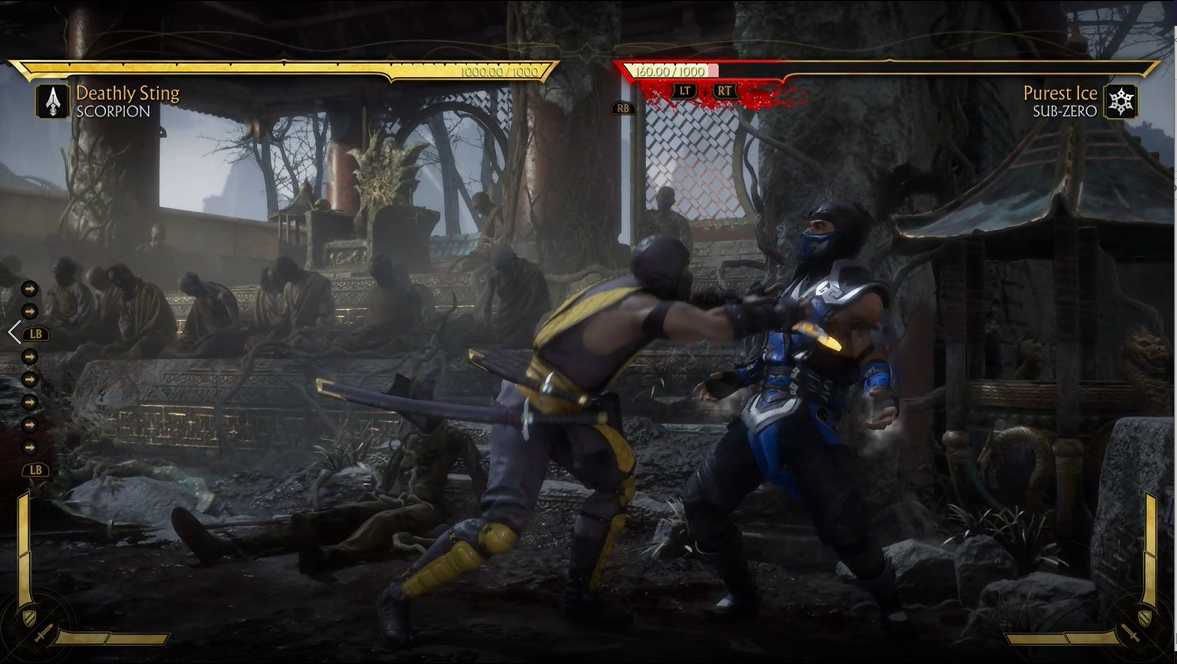grab: (312, 168, 967, 641)
